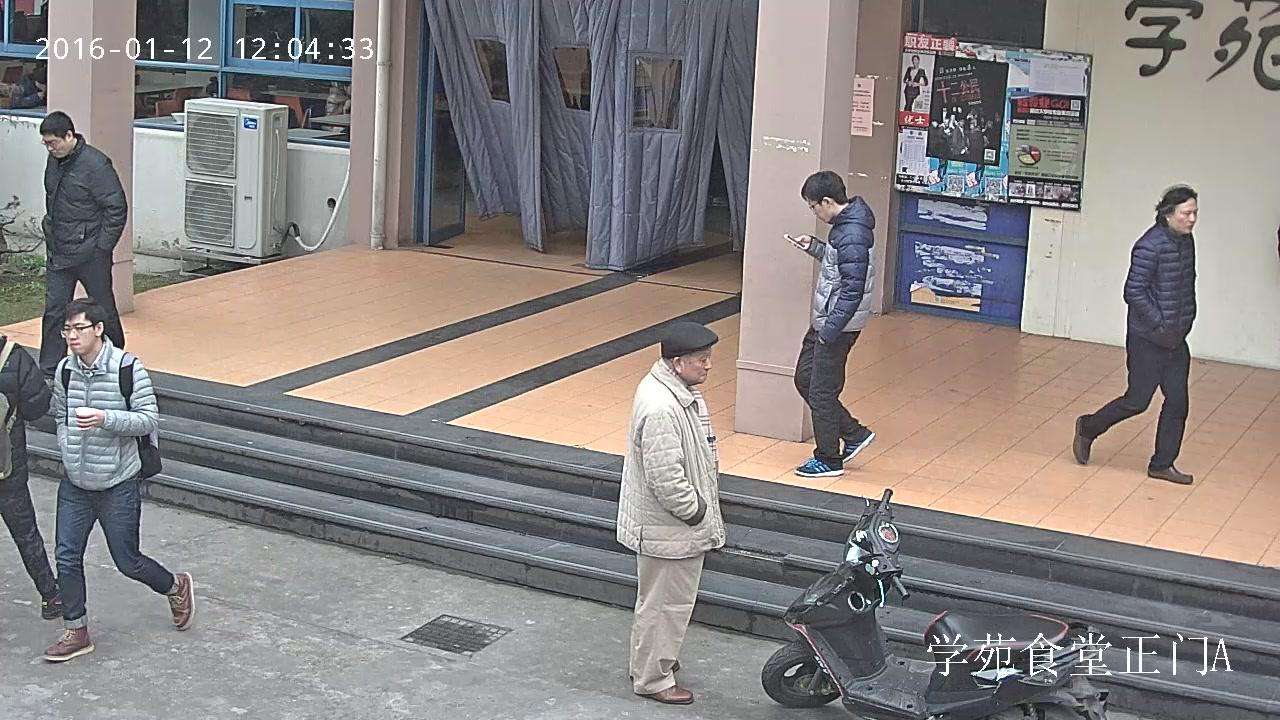person: (42, 298, 195, 661), (617, 322, 726, 704), (1073, 188, 1197, 484), (782, 172, 875, 477), (40, 111, 127, 386), (0, 335, 62, 619), (7, 67, 46, 108), (903, 54, 928, 112), (326, 81, 351, 135)
